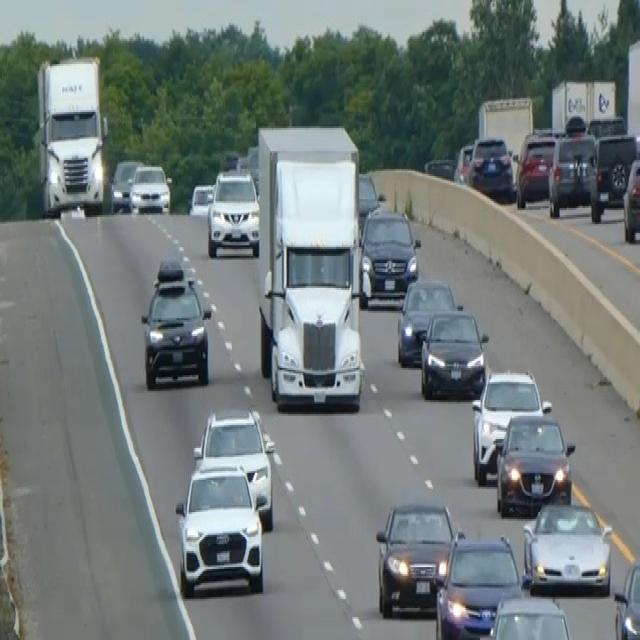car: (174, 460, 264, 598), (192, 405, 275, 528), (374, 498, 458, 617), (470, 366, 551, 486), (434, 532, 524, 638), (521, 498, 613, 596), (494, 409, 575, 515), (419, 304, 488, 398), (359, 204, 420, 304), (396, 276, 459, 366), (206, 167, 260, 258), (476, 592, 578, 638), (547, 130, 598, 217), (590, 130, 639, 220), (514, 128, 560, 206), (467, 133, 515, 203), (129, 162, 171, 213), (613, 556, 639, 638), (110, 156, 142, 212), (357, 170, 383, 234), (621, 154, 639, 242), (453, 140, 473, 185), (188, 181, 214, 215), (423, 154, 456, 180)
jeep: (139, 256, 212, 391)
lorry: (255, 121, 364, 412)
